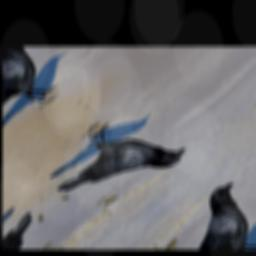Crow: (34, 101, 191, 225)
